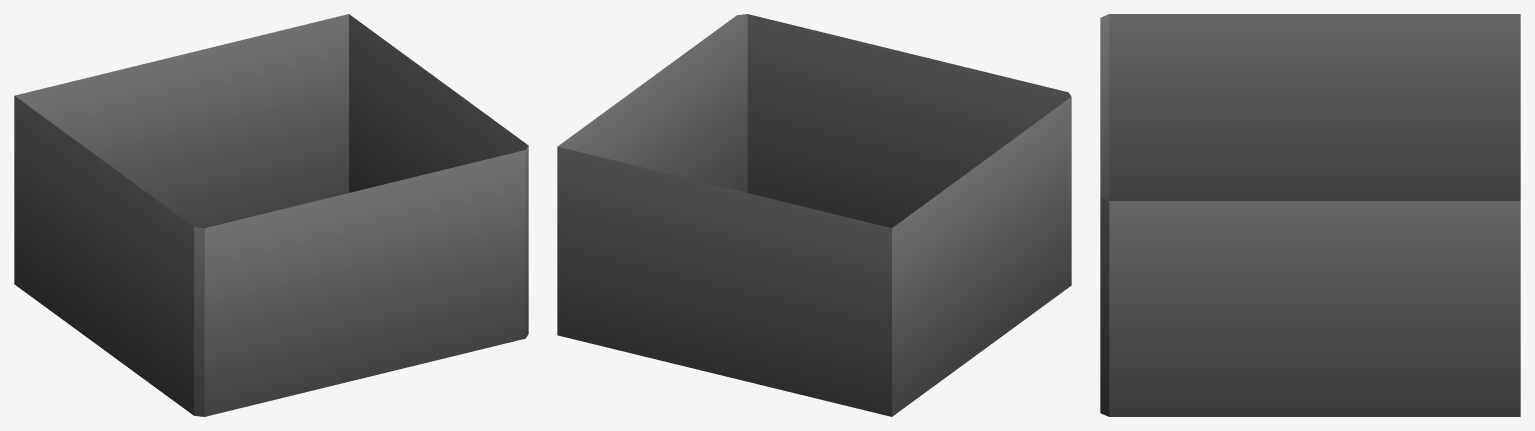
Rendered from Counter_01.fbx.
3 views of the same model, side by side, from view 1: azimuth 30°, elevation 25°; view 2: azimuth 150°, elevation 25°; view 3: azimuth 270°, elevation 25° (orthographic). The views are drawn at different scales.
Visible parts, largest first — view 1: Counter_01; view 2: Counter_01; view 3: Counter_01.
Boxes of the visible parts, bbox=[...] form: Counter_01: bbox=[14, 14, 528, 416]; Counter_01: bbox=[557, 14, 1071, 416]; Counter_01: bbox=[1100, 14, 1520, 416].
Bounding box in the file's own units: 100 × 53.91 × 94.97.
